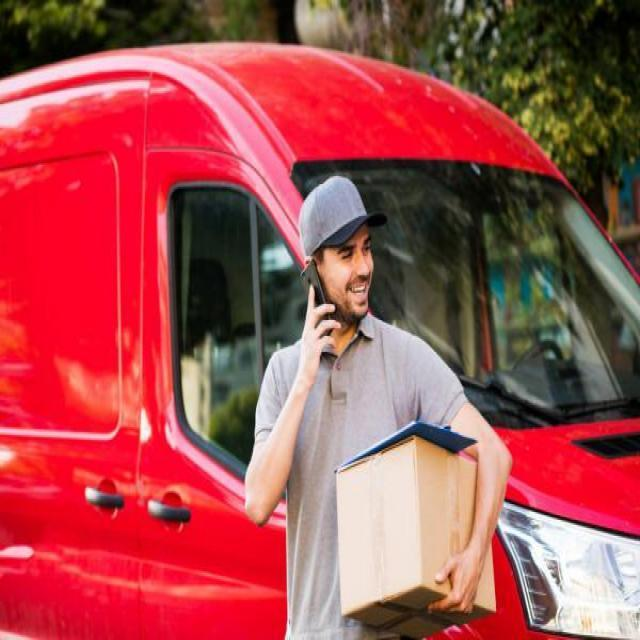box: (332, 424, 492, 640)
